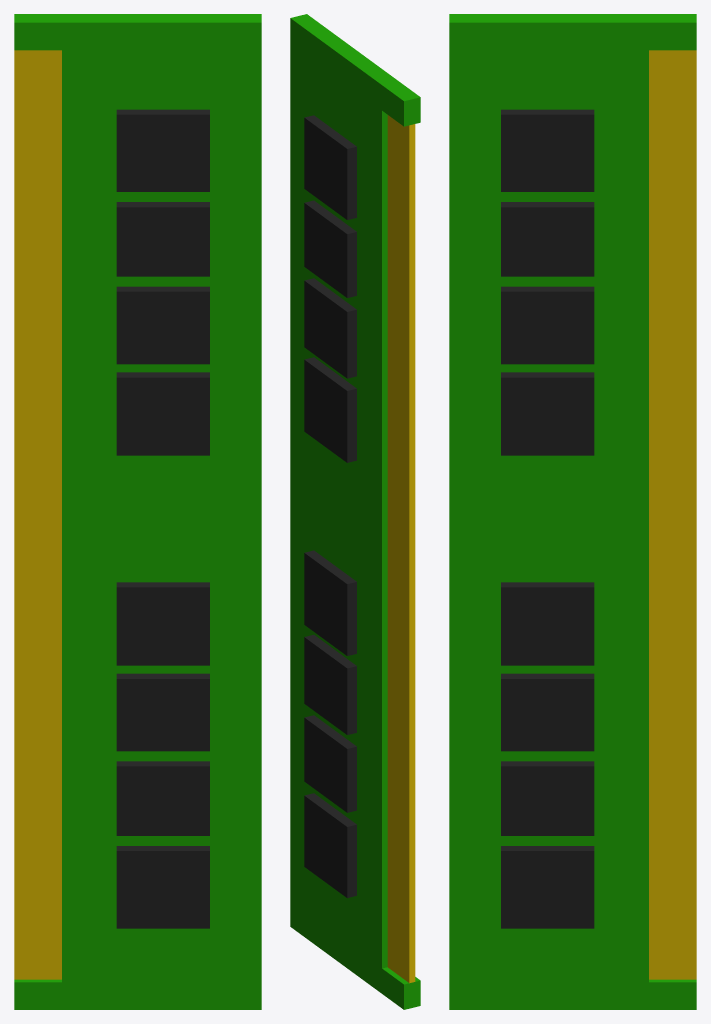
Rendered from ram01.fbx.
The picture shows the model from 3 angles, left to right: view 1: azimuth 90°, elevation 25°; view 2: azimuth 210°, elevation 25°; view 3: azimuth 270°, elevation 25°; orthographic projection. The views are drawn at different scales.
Visible parts, largest first — view 1: Plane; view 2: Plane; view 3: Plane.
Part boxes in pixels (bbox=[...]): Plane: bbox=[14, 14, 261, 1009]; Plane: bbox=[290, 14, 420, 1009]; Plane: bbox=[449, 14, 696, 1009].
Bounding box in the file's own units: 4.01 × 96.24 × 21.83.
